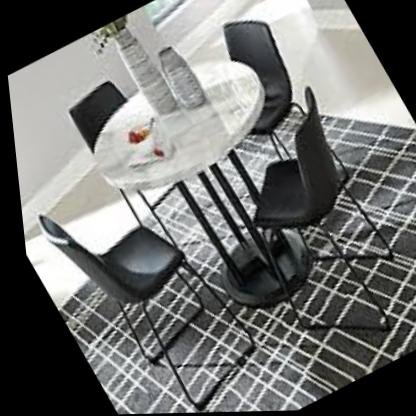Dining Table: (1, 1, 416, 416)
